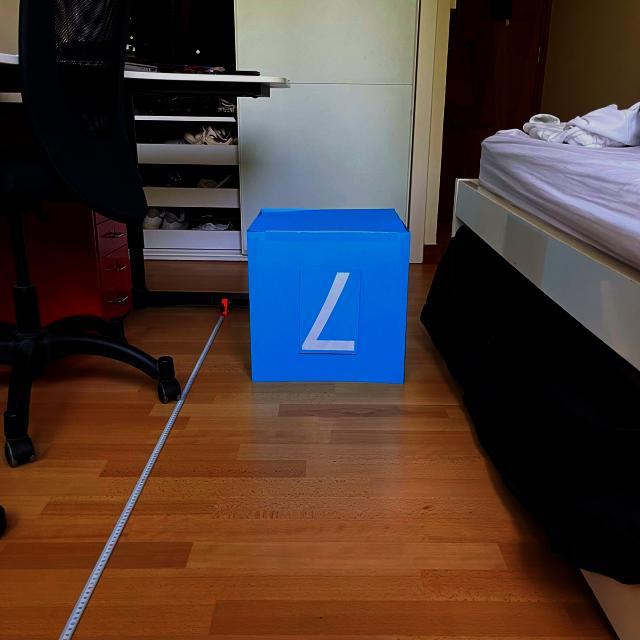box: (243, 203, 413, 386)
